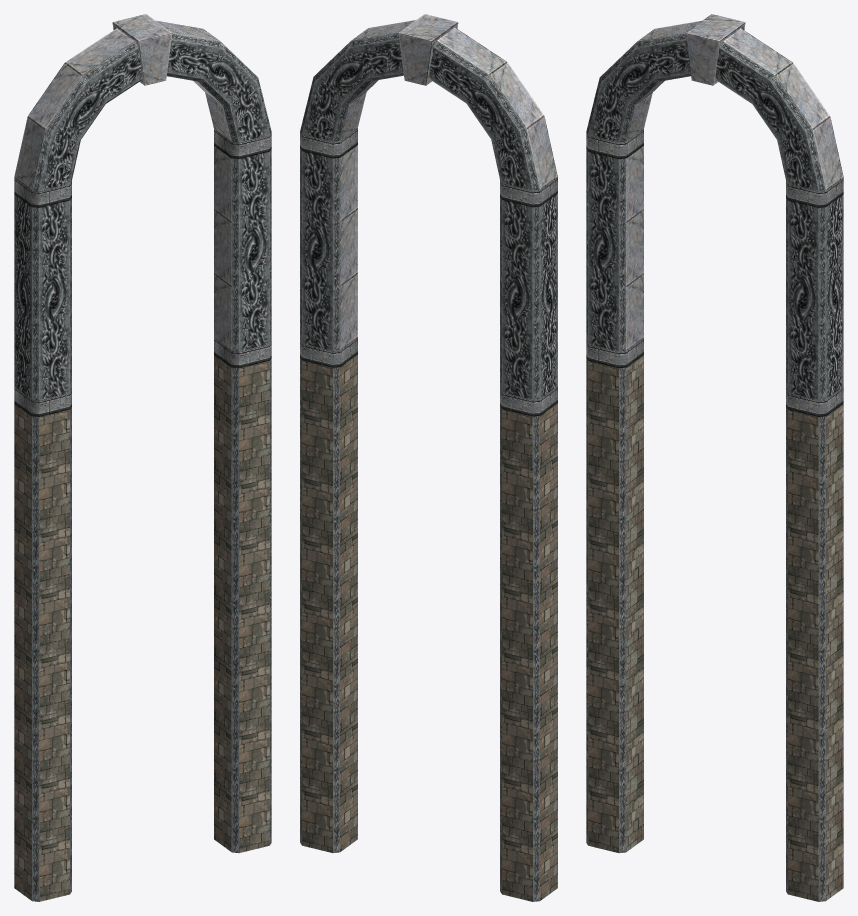
Rendered from S_dcr4.glb.
3 renders of one model, left to right at view 1: azimuth 30°, elevation 25°; view 2: azimuth 150°, elevation 25°; view 3: azimuth 330°, elevation 25°, orthographic.
Visible parts, largest first — view 1: S_dcr4-col; view 2: S_dcr4-col; view 3: S_dcr4-col.
Boxes of the visible parts, bbox=[...] form: S_dcr4-col: bbox=[14, 14, 271, 901]; S_dcr4-col: bbox=[300, 14, 557, 901]; S_dcr4-col: bbox=[586, 14, 843, 901].
Bounding box in the file's own units: 6 × 20.03 × 1.13.
Materials: 3 (3 with a texture image).
